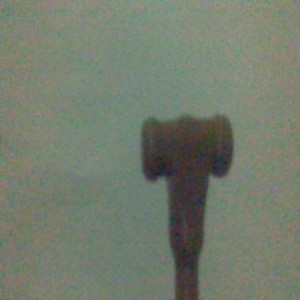palu: (141, 113, 233, 300)
